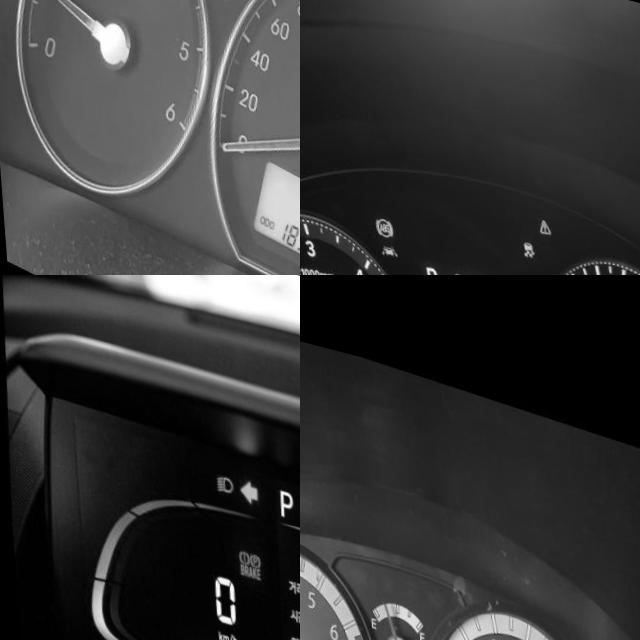Central Warning lamp: (532, 194, 547, 214)
LaneCenteringOff: (374, 228, 392, 245)
Low beam: (210, 461, 230, 483)
